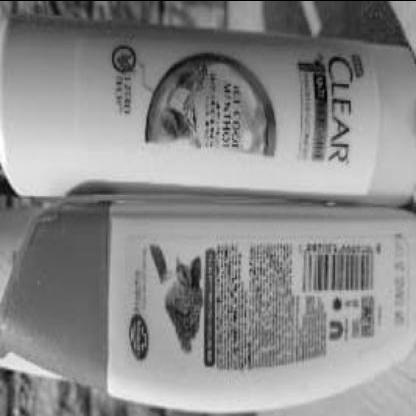objects: (0, 201, 416, 416), (0, 21, 414, 197)
